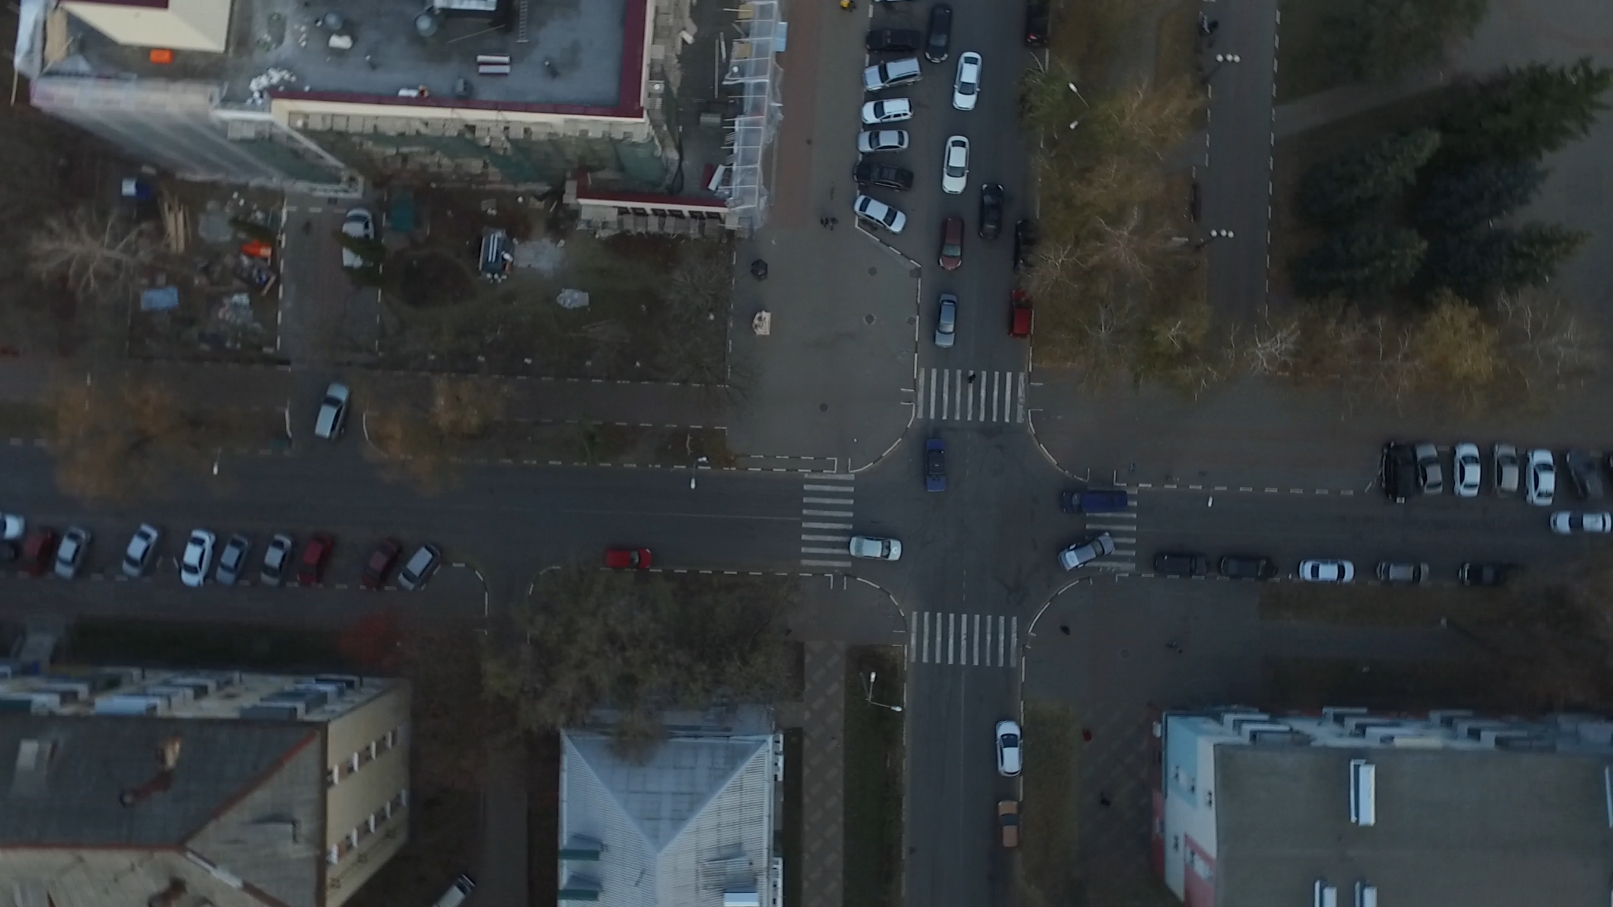car: (1052, 530, 1113, 574), (176, 524, 215, 589), (1564, 444, 1606, 504), (854, 195, 911, 236), (395, 542, 436, 594), (851, 157, 913, 192), (358, 535, 395, 590), (1381, 435, 1414, 499), (1455, 555, 1525, 584), (120, 527, 160, 578), (50, 525, 88, 578), (939, 133, 973, 193), (296, 530, 331, 586), (312, 385, 348, 441), (427, 870, 480, 907), (951, 51, 982, 113), (1490, 439, 1522, 498), (1523, 444, 1557, 502), (212, 533, 248, 585), (861, 61, 924, 91), (14, 524, 51, 575), (935, 215, 967, 272), (1549, 509, 1613, 538), (851, 530, 904, 565), (261, 533, 294, 589), (990, 718, 1019, 780), (1412, 437, 1444, 494), (1455, 441, 1483, 501), (933, 295, 963, 352), (1215, 554, 1271, 585), (1301, 550, 1353, 583), (602, 542, 655, 573), (921, 11, 952, 64), (866, 25, 919, 56), (976, 179, 1005, 236), (1153, 547, 1208, 577), (1057, 489, 1126, 513), (1371, 556, 1427, 584), (862, 97, 913, 126), (853, 126, 910, 152), (994, 797, 1020, 851), (1013, 218, 1038, 274), (1023, 1, 1049, 51), (1009, 284, 1032, 338), (924, 439, 944, 489)
